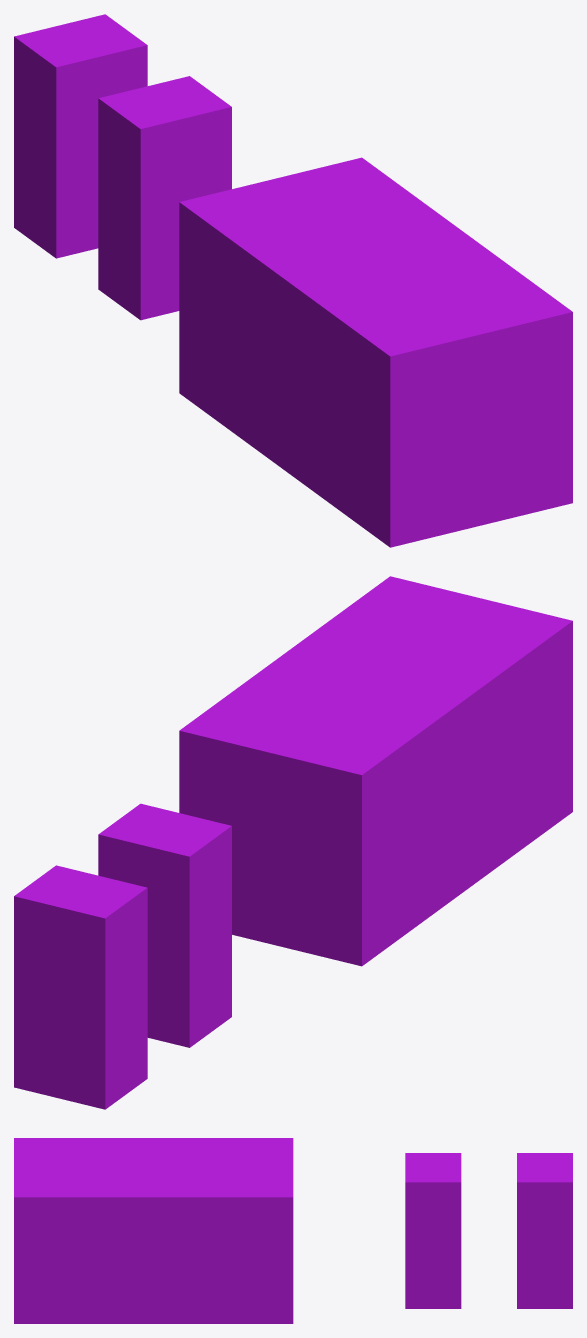
Rendered from powerup_single_shot.fbx.
The picture shows the model from 3 angles, top to bottom: view 1: azimuth 30°, elevation 25°; view 2: azimuth 150°, elevation 25°; view 3: azimuth 270°, elevation 25°; orthographic projection. The views are drawn at different scales.
Parts seen in each view (by area): view 1: powerup_single_shot; view 2: powerup_single_shot; view 3: powerup_single_shot.
Part boxes in pixels (x1=…): powerup_single_shot: x1=14, y1=14, x2=572, y2=547; powerup_single_shot: x1=14, y1=576, x2=572, y2=1109; powerup_single_shot: x1=14, y1=1138, x2=572, y2=1323.
Bounding box in the file's own units: 50 × 50 × 200.
